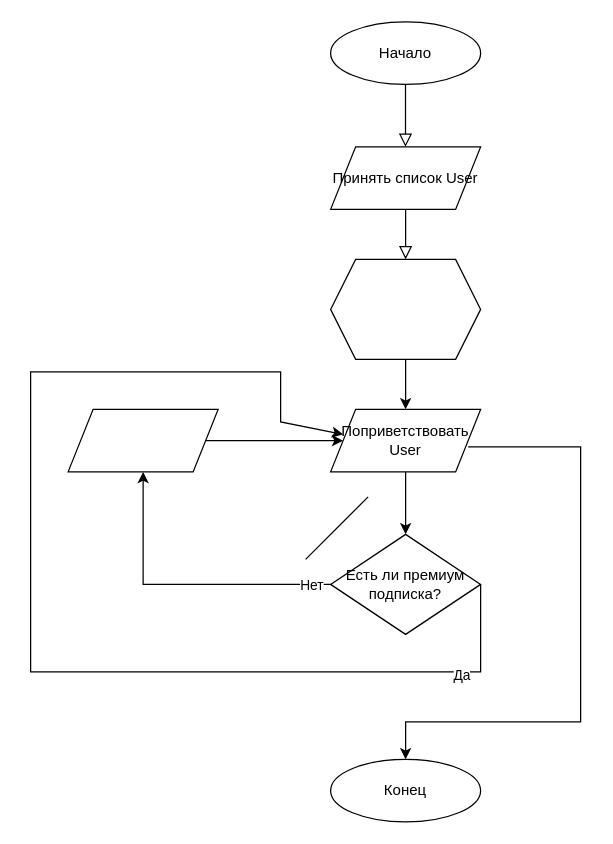
Image size: 613x844. Some labels were removed from this diagram. Here are the shapes that lost their labels. From the top down, the centre of each, then its label:
At point 405,308: "Пока не дойдём до конца списка".
At point 142,440: "Показать рекламу".
